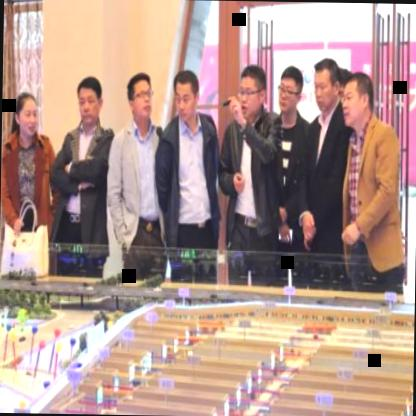head: (340, 66, 374, 128), (309, 53, 342, 116), (170, 65, 200, 127), (236, 61, 268, 119), (72, 72, 105, 128), (124, 70, 155, 126), (276, 60, 306, 115), (12, 86, 42, 140)
